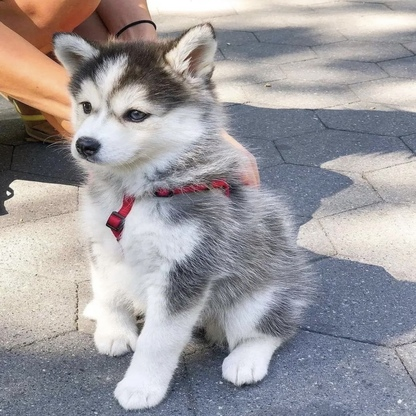husky: (46, 21, 330, 413)
